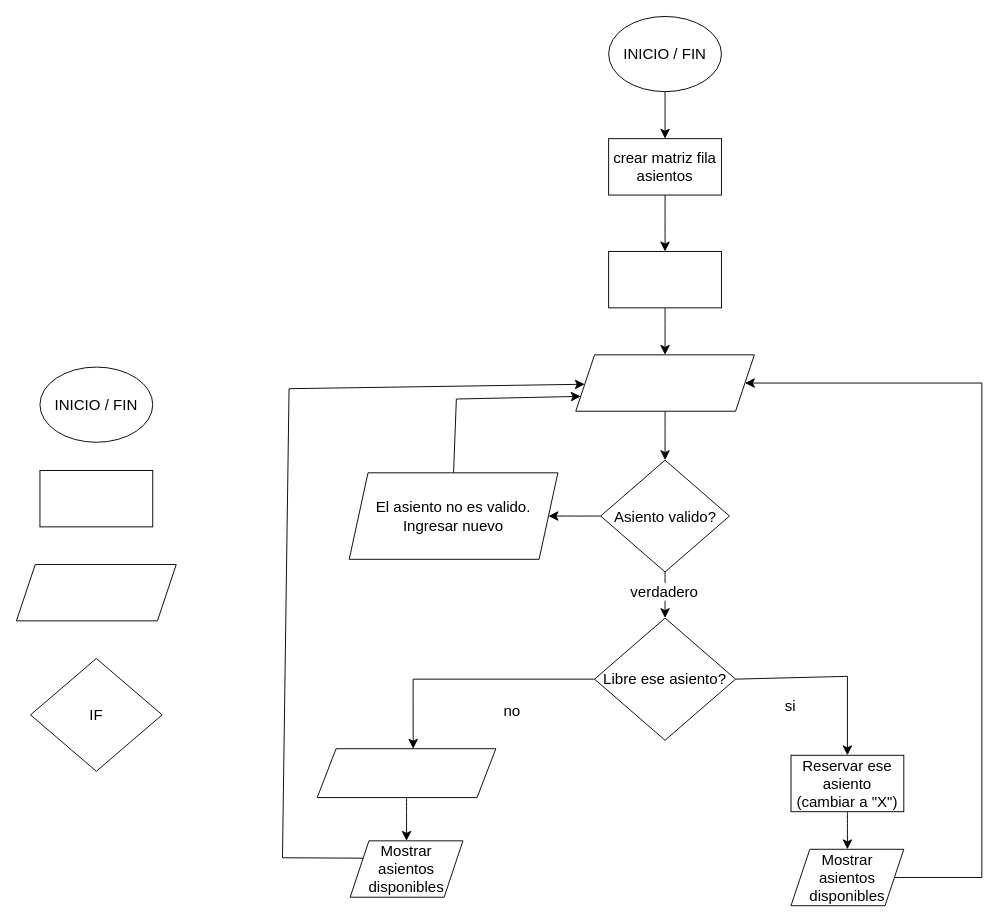
The diagram is 1008 pixels wide and 922 high, and some of its shapes have lost their labels. Each missing label, with the centre of its shape:
Cargar todos los lugares con "L": the point at 664,279
El asiento ya esta ocupado: the point at 406,773
PEDIR DATO MOSTRAR DATO: the point at 96,592
Pedir que asiento reservar: the point at 664,382
PROCESO: the point at 96,498
